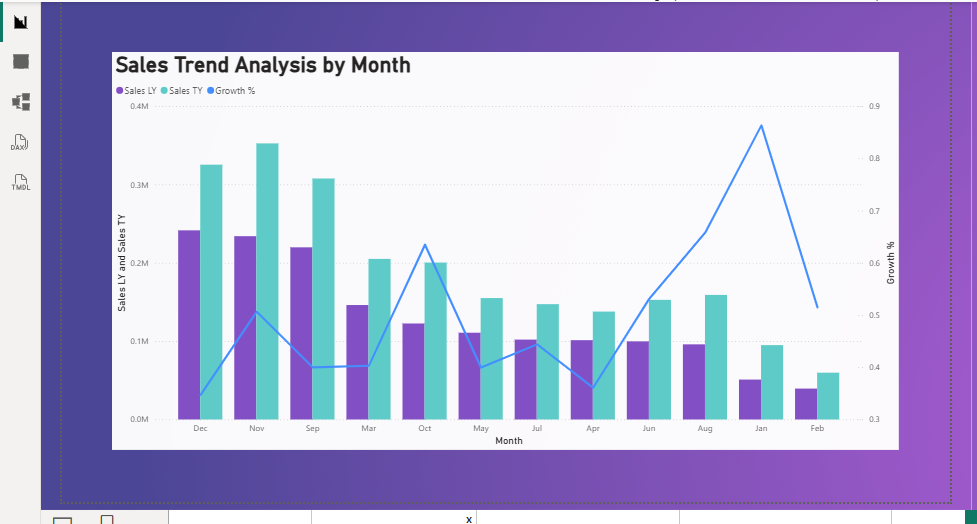

Layout of this report page (visuals, bound fields, positions):
{"tool":"powerbi","page":{"name":"Sales and Profit Trends","canvas":[1280,720],"ordinal":1},"visuals":[{"type":"lineClusteredColumnComboChart","title":"Sales Trend Analysis by Month","fields":{"Category":["DateTable.Month"],"Y":["Measuires.Sales LY","Measuires.Sales TY"],"Y2":["Measuires.Growth %"]},"box":[72.5,72.5,1132.5,572.5],"z":0}]}

Visuals, with their boxes on the page's 1280x720 design canvas (x1, y1, x2, y2). These are canvas units, not pixel positions in the 977x524 screenshot, which may show the page scaled, cropped or inside an application window:
"Sales Trend Analysis by Month" lineClusteredColumnComboChart: (72,72,1205,645)
